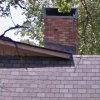Chimney: (36, 2, 82, 54)
